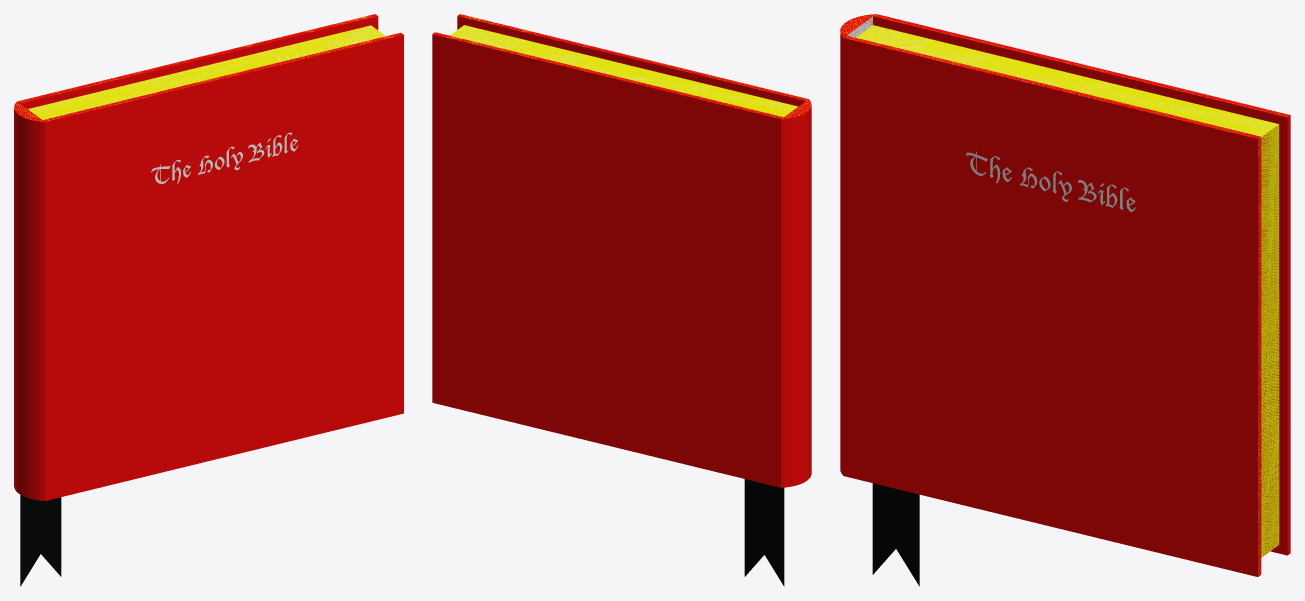
3 renders of one model, left to right at view 1: azimuth 30°, elevation 25°; view 2: azimuth 150°, elevation 25°; view 3: azimuth 330°, elevation 25°, orthographic. The views are drawn at different scales.
Parts seen in each view (by area): view 1: the bible; view 2: the bible; view 3: the bible.
Part boxes in pixels (x1,y1,x2,y2): the bible: (14,14,403,586); the bible: (432,14,811,586); the bible: (840,14,1290,586).
Size of the model in its own units: 233 by 290 by 30.87.
